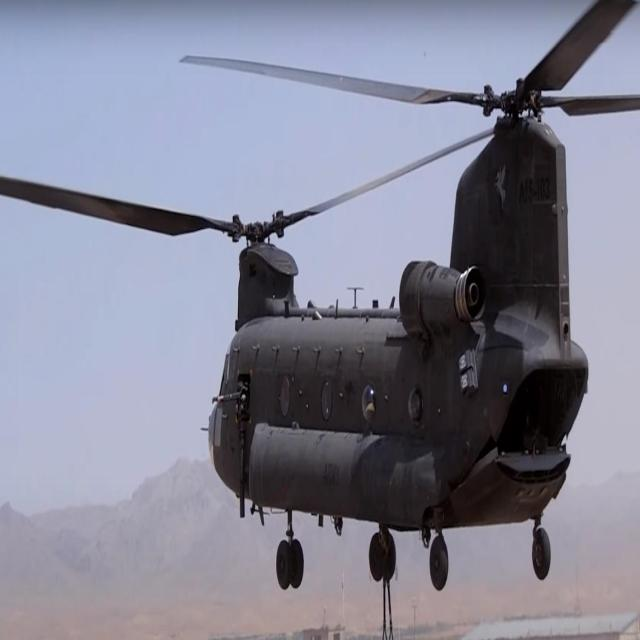Helicopter: (131, 56, 603, 590)
